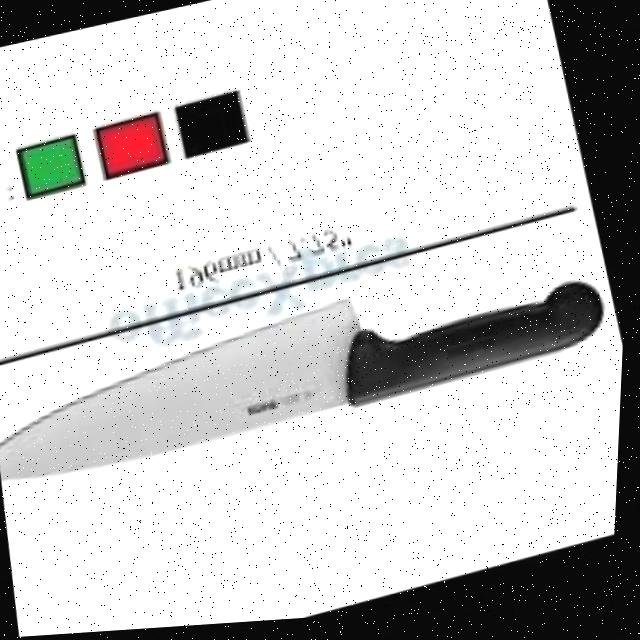knife: (0, 250, 615, 494)
